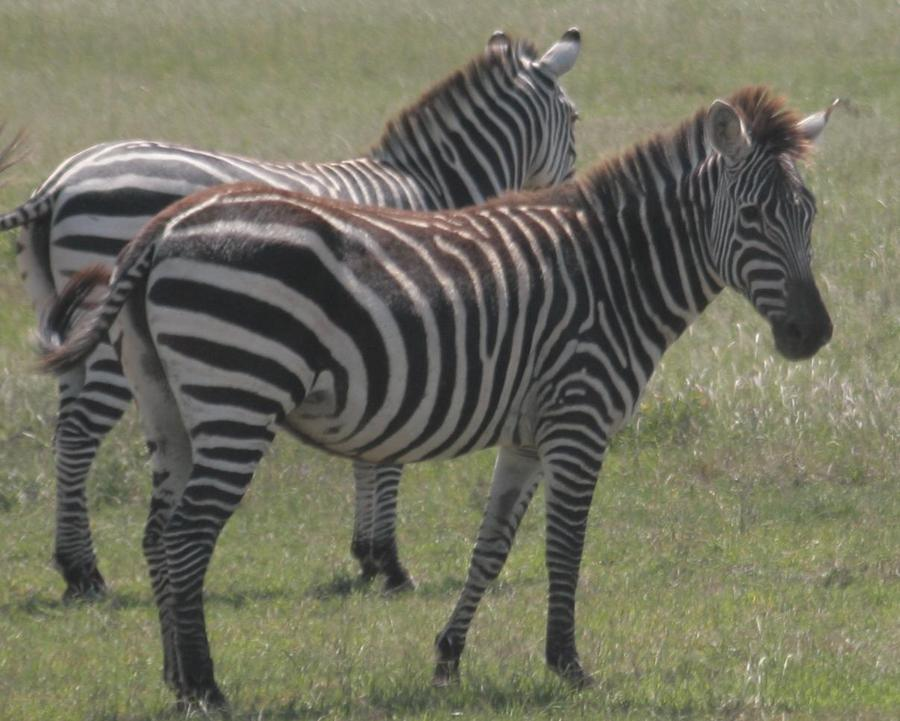zebra_plains: (119, 139, 688, 509)
